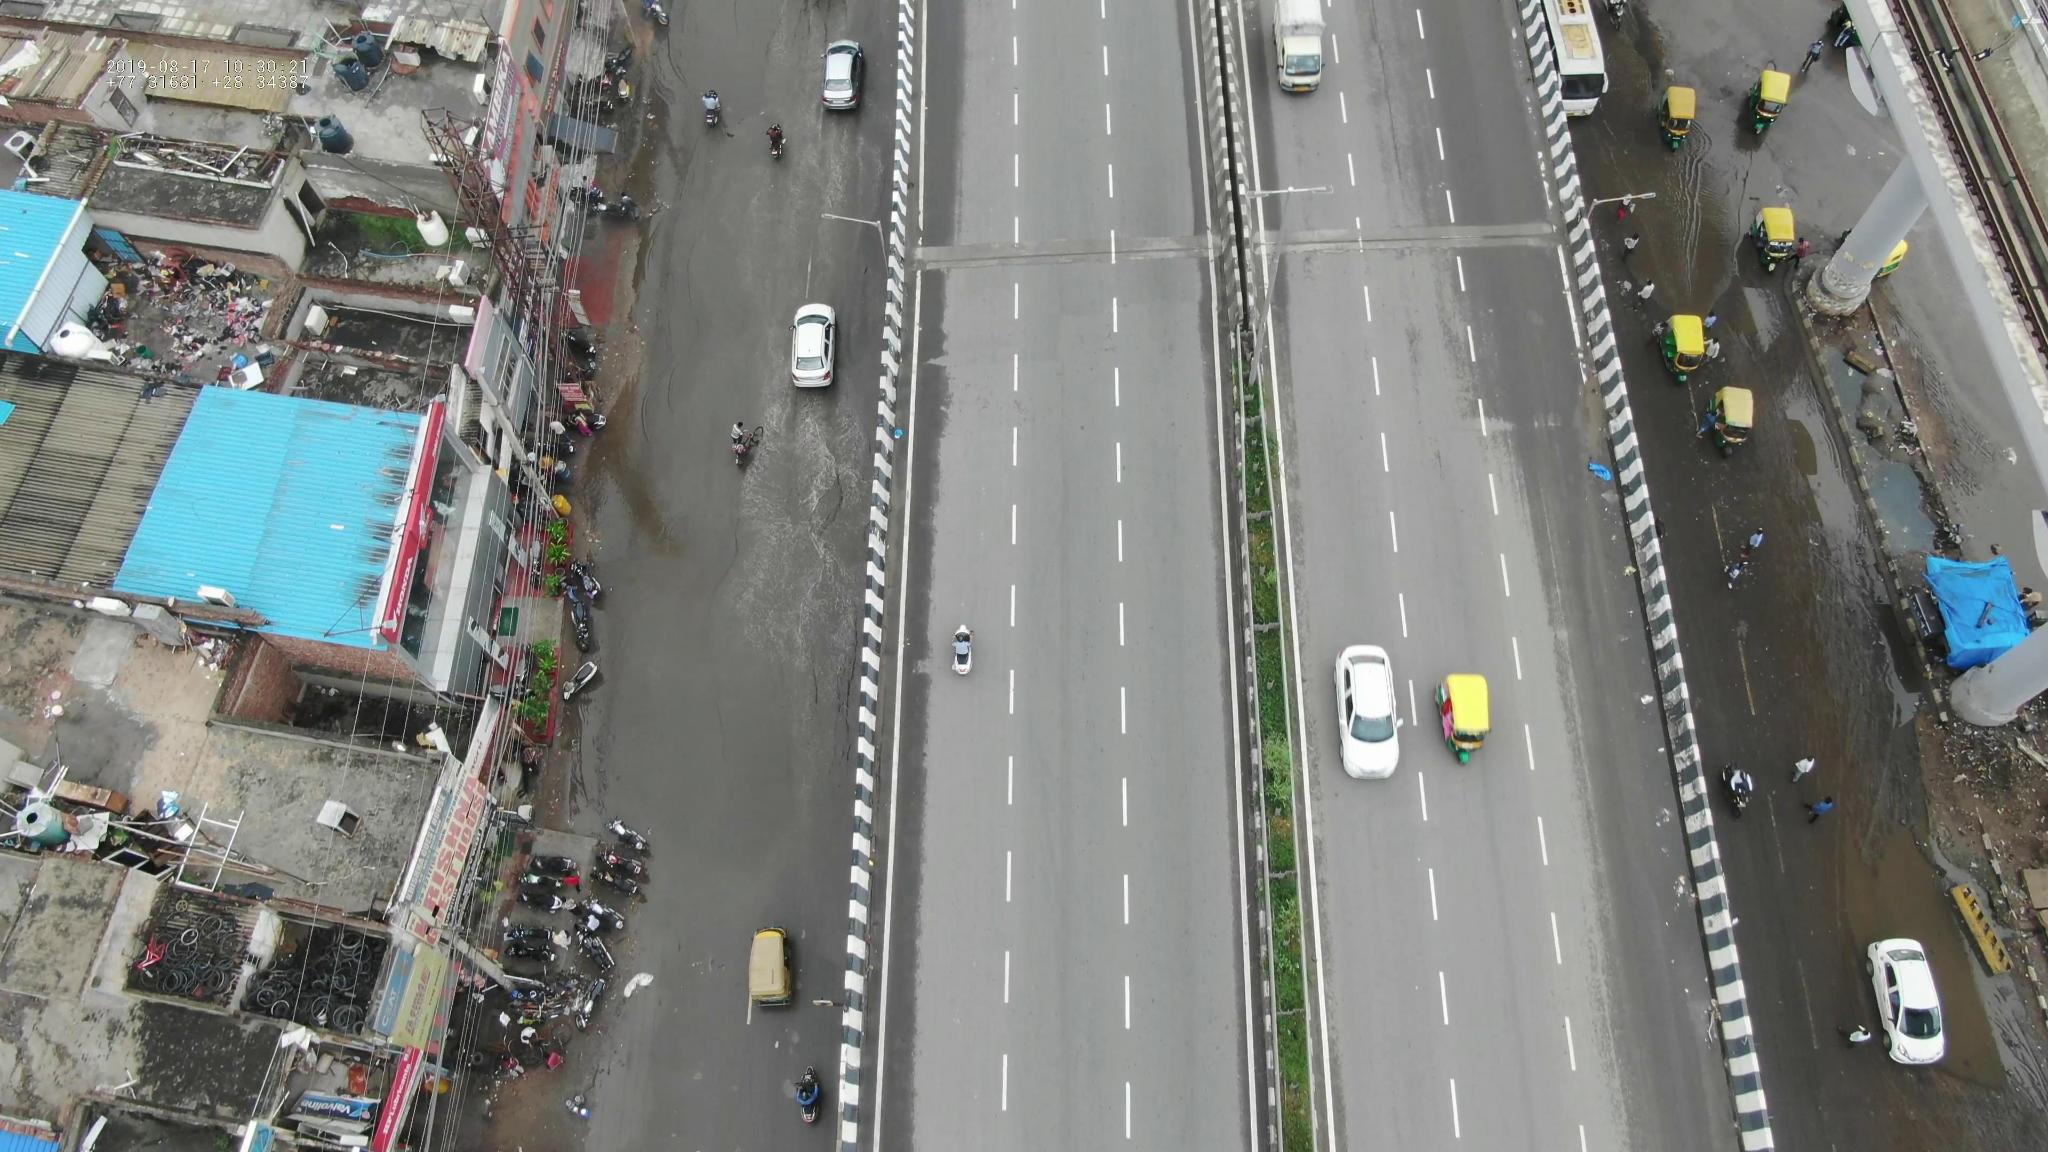Waterlogging: (568, 371, 843, 888), (596, 8, 873, 356), (1582, 44, 1779, 314), (1772, 404, 1940, 594)
